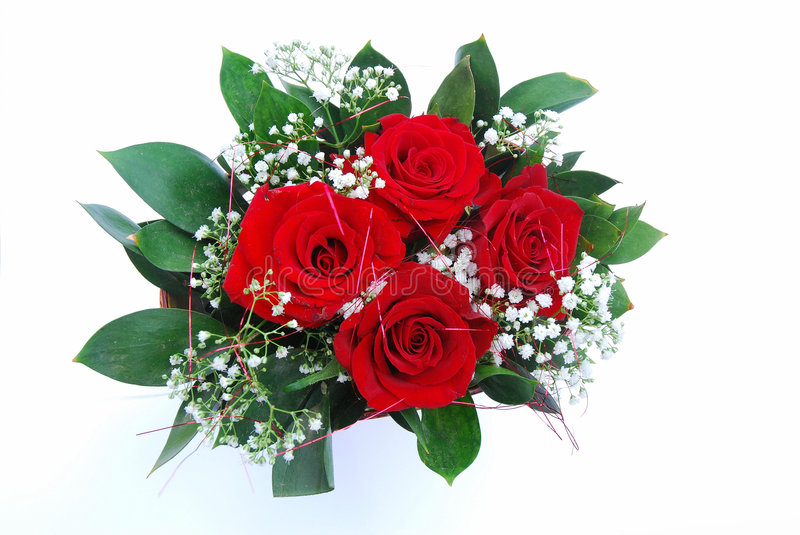RedRose: (325, 255, 495, 405), (234, 173, 388, 326), (356, 102, 494, 238), (473, 168, 585, 314)
